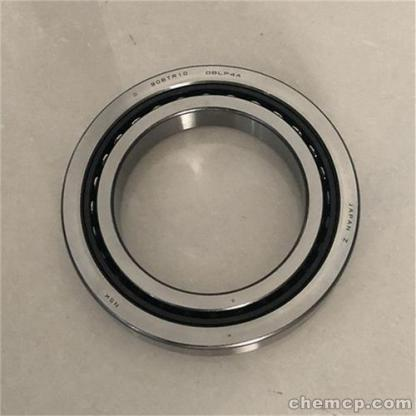FOD: (55, 61, 367, 362)
